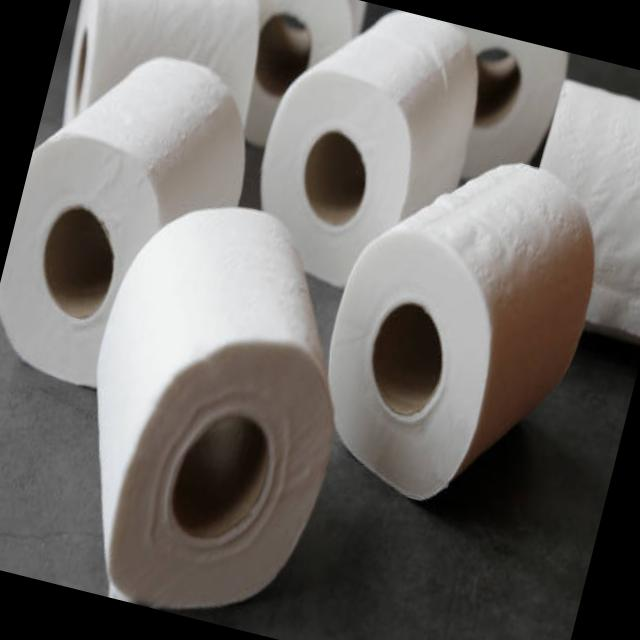electronic: (40, 176, 384, 640), (296, 124, 620, 528), (0, 26, 269, 412), (234, 0, 495, 309), (48, 0, 282, 167), (502, 74, 640, 344), (402, 19, 570, 198), (196, 0, 367, 163), (226, 0, 367, 40)
